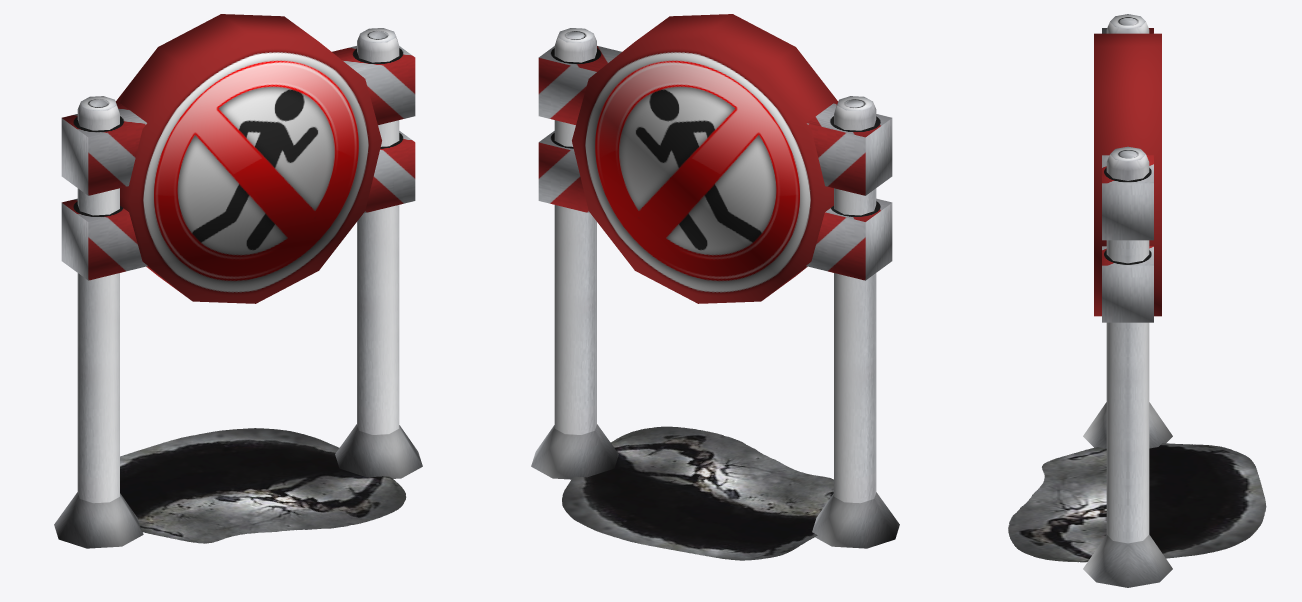
File: NoThoroughfare.FBX
3 views of the same model, side by side, from view 1: azimuth 30°, elevation 25°; view 2: azimuth 150°, elevation 25°; view 3: azimuth 270°, elevation 25° (orthographic). The views are drawn at different scales.
Parts seen in each view (by area): view 1: NoThoroughfare; view 2: NoThoroughfare; view 3: NoThoroughfare.
Part boxes in pixels (x1,y1,x2,y2): NoThoroughfare: [54, 14, 422, 548]; NoThoroughfare: [531, 14, 899, 560]; NoThoroughfare: [1008, 14, 1266, 587].
Bounding box in the file's own units: 7.73 × 9.62 × 6.11.
